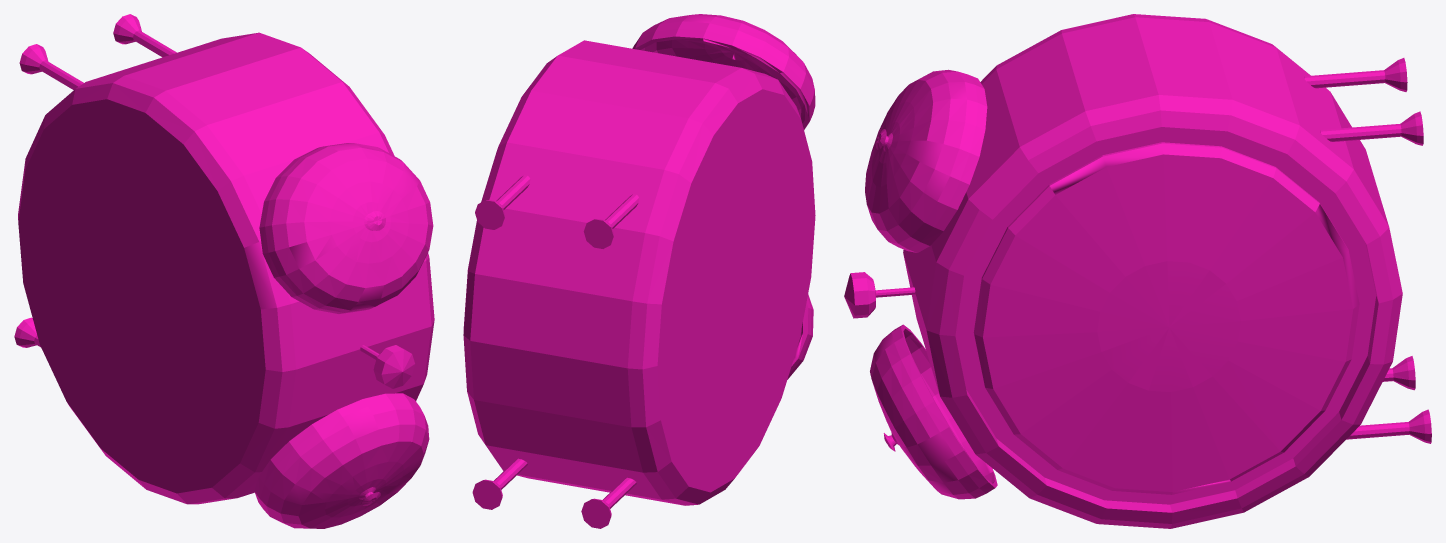
The model's file is alarmClock1_5.dae.
The picture shows the model from 3 angles, left to right: view 1: azimuth 30°, elevation 25°; view 2: azimuth 150°, elevation 25°; view 3: azimuth 270°, elevation 25°; orthographic projection. The views are drawn at different scales.
Parts seen in each view (by area): view 1: M006126_019; view 2: M006126_019; view 3: M006126_019.
Part boxes in pixels (<box>): M006126_019: <box>14,14,434,528</box>; M006126_019: <box>463,14,815,528</box>; M006126_019: <box>844,14,1431,528</box>.
Bounding box in the file's own units: 0.1 × 0.2041 × 0.1669.
